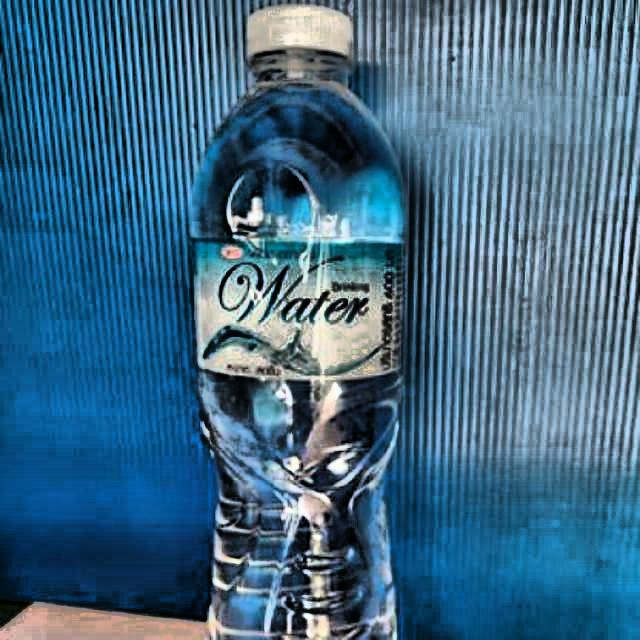Bottles: (187, 1, 411, 640)
